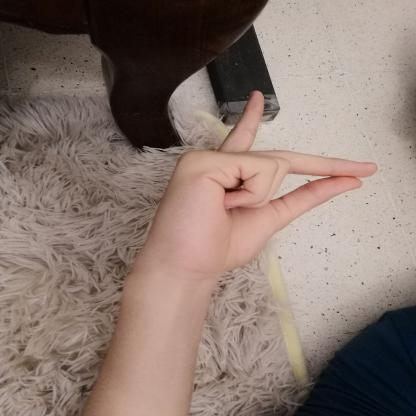TAA: (114, 79, 391, 292)
